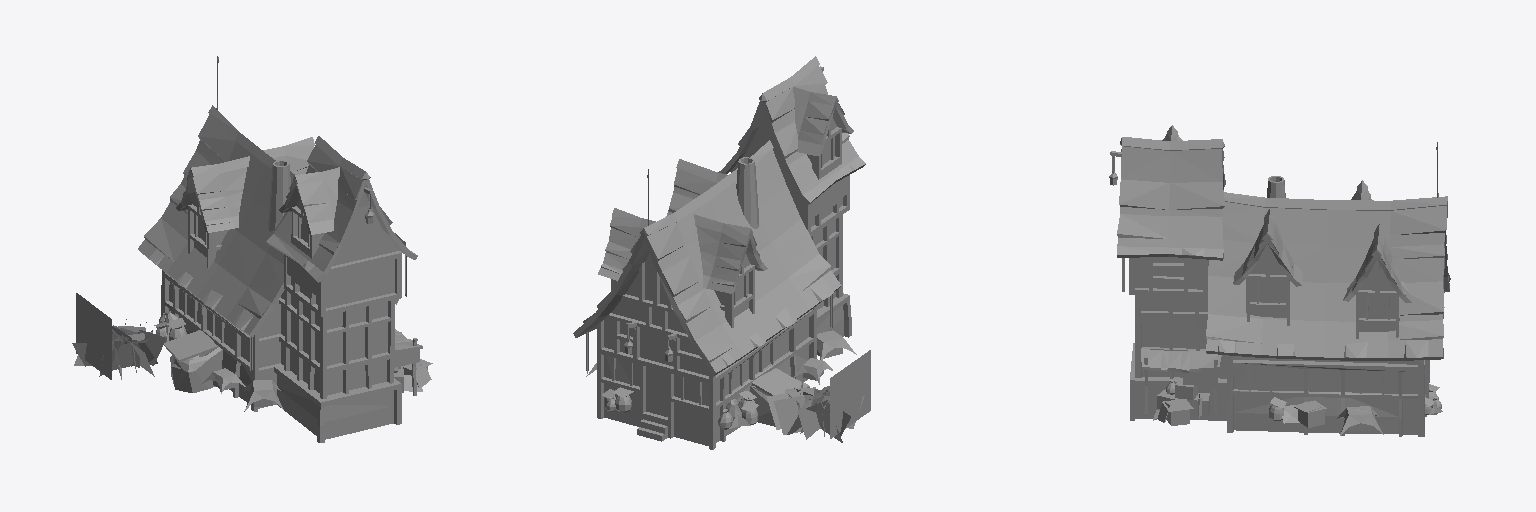
File: house2.obj
The picture shows the model from 3 angles: view 1: azimuth 30°, elevation 25°; view 2: azimuth 150°, elevation 25°; view 3: azimuth 270°, elevation 25°; orthographic projection.
Visible parts, largest first — view 1: DrawCall_3, DrawCall_6, DrawCall_5, DrawCall_0, DrawCall_1, DrawCall_7, DrawCall_8, DrawCall_9; view 2: DrawCall_6, DrawCall_3, DrawCall_5, DrawCall_1, DrawCall_9, DrawCall_7, DrawCall_0, DrawCall_4, DrawCall_8; view 3: DrawCall_6, DrawCall_3, DrawCall_5, DrawCall_7, DrawCall_0, DrawCall10.
Boxes of the visible parts, x1,y1,x2,y2 form: DrawCall_3: [138, 170, 431, 442]; DrawCall_6: [138, 105, 417, 334]; DrawCall_5: [222, 160, 393, 439]; DrawCall_0: [250, 194, 422, 391]; DrawCall_1: [76, 293, 111, 379]; DrawCall_7: [187, 216, 372, 360]; DrawCall_8: [112, 322, 166, 376]; DrawCall_9: [72, 319, 157, 379]; DrawCall_6: [583, 56, 865, 372]; DrawCall_3: [573, 66, 865, 449]; DrawCall_5: [604, 157, 843, 445]; DrawCall_1: [830, 350, 870, 438]; DrawCall_9: [773, 388, 864, 442]; DrawCall_7: [615, 139, 830, 402]; DrawCall_0: [586, 177, 846, 428]; DrawCall_4: [646, 367, 667, 416]; DrawCall_8: [766, 380, 829, 434]; DrawCall_6: [1117, 125, 1450, 357]; DrawCall_3: [1109, 149, 1449, 436]; DrawCall_5: [1135, 176, 1437, 434]; DrawCall_7: [1110, 178, 1387, 392]; DrawCall_0: [1112, 156, 1442, 423]; DrawCall10: [1162, 384, 1439, 415].
Size of the model in its own units: 1190 by 1144 by 1317.